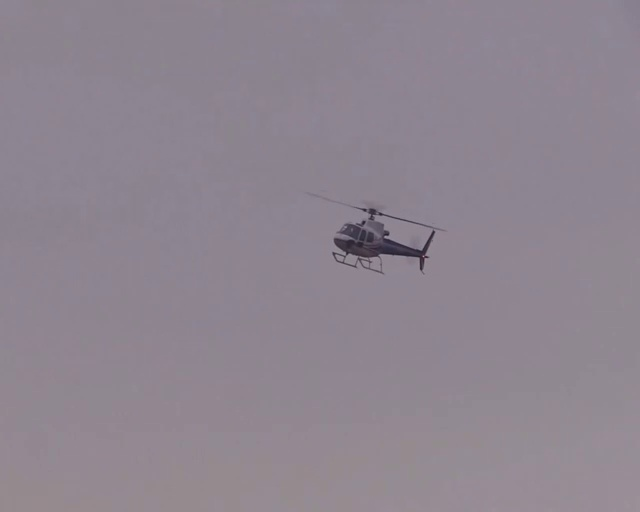HELICOPTER: (303, 188, 447, 275)
